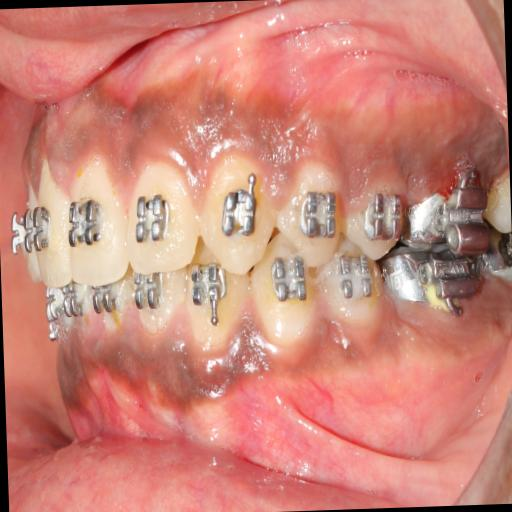correct_brace: (275, 158, 347, 264), (214, 178, 259, 243), (132, 188, 170, 246), (67, 188, 101, 252)
incorrect_brace: (124, 162, 202, 270), (298, 181, 341, 240)
